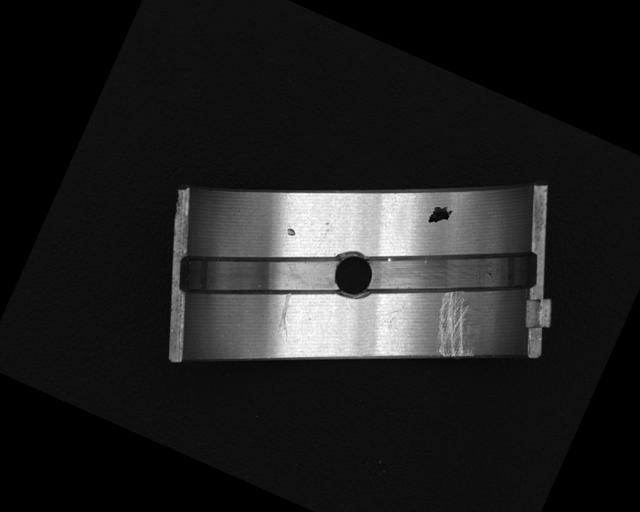blot: (425, 200, 454, 230)
bruise: (285, 226, 297, 237)
gap: (360, 193, 546, 346), (170, 206, 348, 347)
hole: (325, 247, 379, 303)
nick: (269, 292, 304, 339)
scratch: (421, 288, 492, 365)
